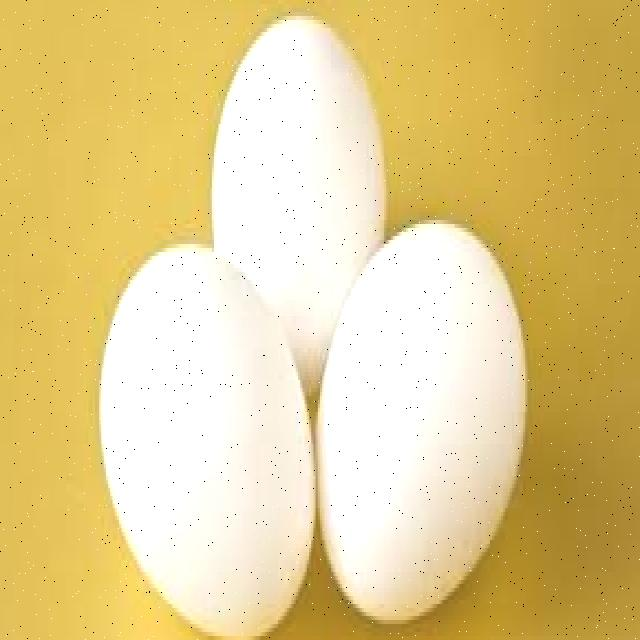White Egg: (73, 220, 318, 640), (315, 214, 535, 631), (209, 16, 388, 402)
